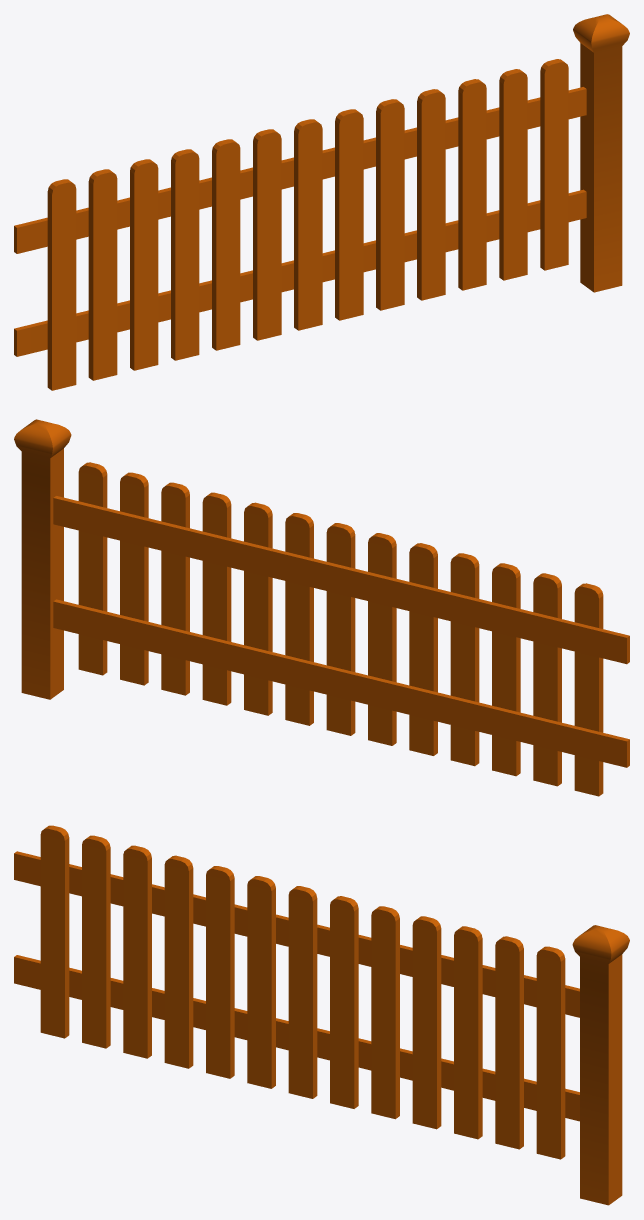
File: Fence_2.2.fbx
The picture shows the model from 3 angles, top to bottom: view 1: azimuth 30°, elevation 25°; view 2: azimuth 150°, elevation 25°; view 3: azimuth 330°, elevation 25°; orthographic projection.
Parts seen in each view (by area): view 1: Fence_2.2; view 2: Fence_2.2; view 3: Fence_2.2.
Part boxes in pixels (<box>): Fence_2.2: <box>14,14,629,390</box>; Fence_2.2: <box>14,419,629,796</box>; Fence_2.2: <box>14,825,629,1205</box>.
Bounding box in the file's own units: 304 × 128 × 16.06.
1 material, 1 textured.
